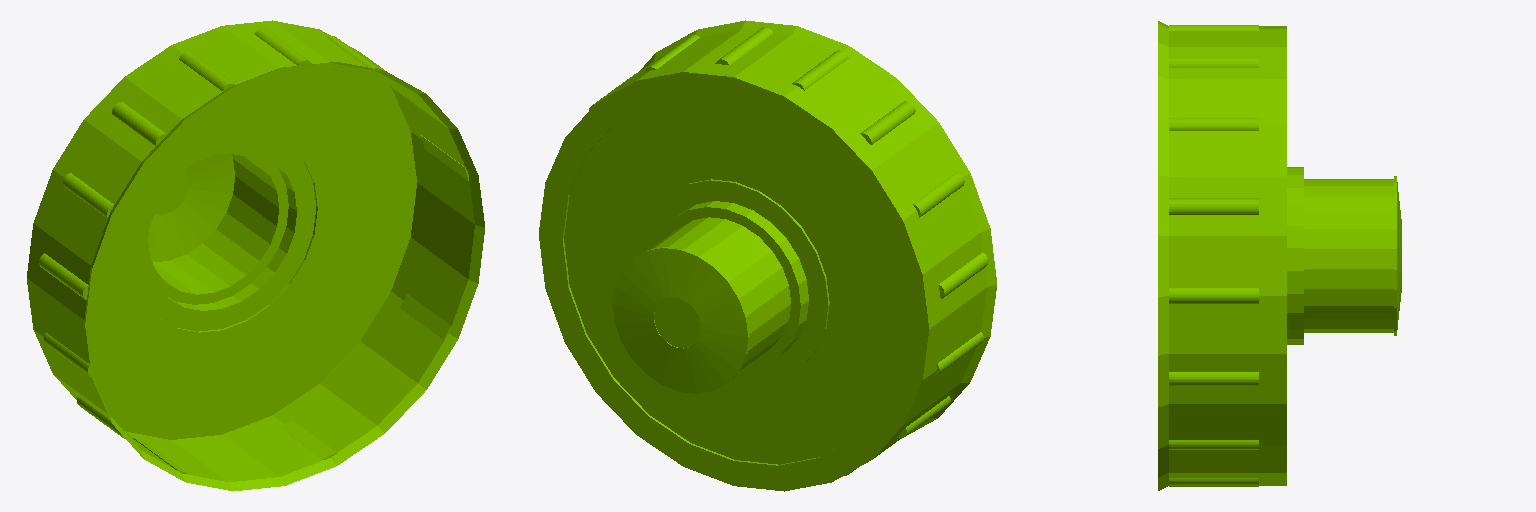
The robot description file, URDF, robot "cube.urdf":
<?xml version="0.0" ?>
<robot name="cube.urdf">
  <link name="baseLink">
    <contact>
      <lateral_friction value="2.0"/>
      <inertia_scaling value="3.0"/>
    </contact>
    <inertial>
      <origin rpy="0 0 0" xyz="0 0 0"/>
       <mass value=".05"/>
       <inertia ixx="1" ixy="0" ixz="0" iyy="1" iyz="0" izz="1"/>
    </inertial>
    <visual>
      <origin rpy="0 0 0" xyz="0 0 0"/>
      <geometry>
        <mesh filename="cap_new.obj" scale="0.8 0.8 0.8"/>
      </geometry>
       <material name="white">
        <color rgba="0.54 0.8 0 1"/>
      </material>
    </visual>
    <collision>
      <origin rpy="0 0 0" xyz="0 0 0"/>
      <geometry>
        <mesh filename="cap_new.obj" scale="0.8 0.8 0.8"/>
      </geometry>
    </collision>
  </link>
</robot>

--- Render facts (derived) ---
3 views of the same robot in one strip: view 1: azimuth 30°, elevation 25°; view 2: azimuth 150°, elevation 25°; view 3: azimuth 270°, elevation 25° (orthographic).
Model cube.urdf with 1 links and 0 joints (none), rooted at baseLink, posed all joints at 0.
Links seen in each view (by area): view 1: baseLink; view 2: baseLink; view 3: baseLink.
Link boxes in pixels (x1=…): baseLink: x1=27, y1=20, x2=484, y2=491; baseLink: x1=539, y1=20, x2=996, y2=491; baseLink: x1=1158, y1=21, x2=1401, y2=490.
Size in the robot's own frame: 0.0533 by 0.0276 by 0.0533 metres.
1 mesh visuals loaded from 1 distinct referenced files (1 OBJ).